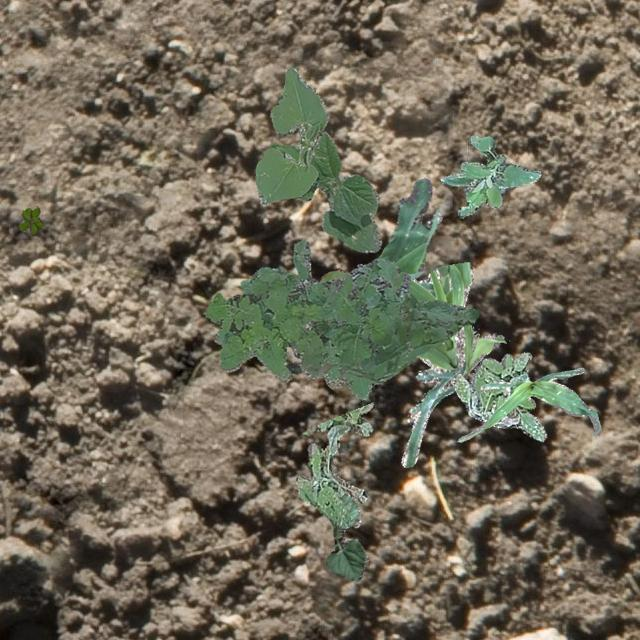crop: (284, 178, 442, 372), (400, 262, 504, 466), (269, 130, 381, 252), (458, 366, 600, 441), (254, 64, 326, 204), (324, 492, 368, 580), (317, 268, 343, 282)
weed: (202, 238, 478, 400), (294, 402, 372, 528), (452, 352, 546, 441), (440, 134, 540, 216), (18, 206, 42, 232)
